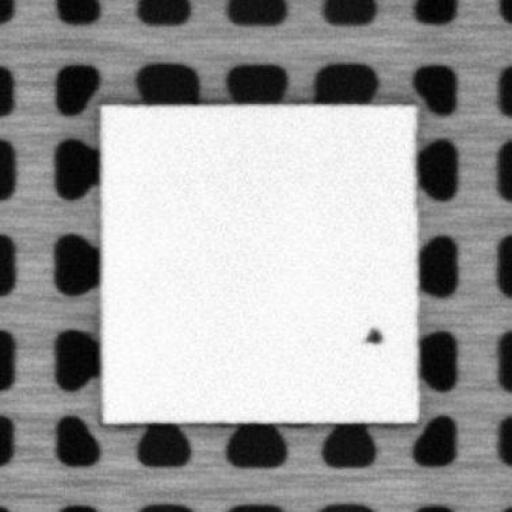DIE_INK: (362, 324, 380, 343)
